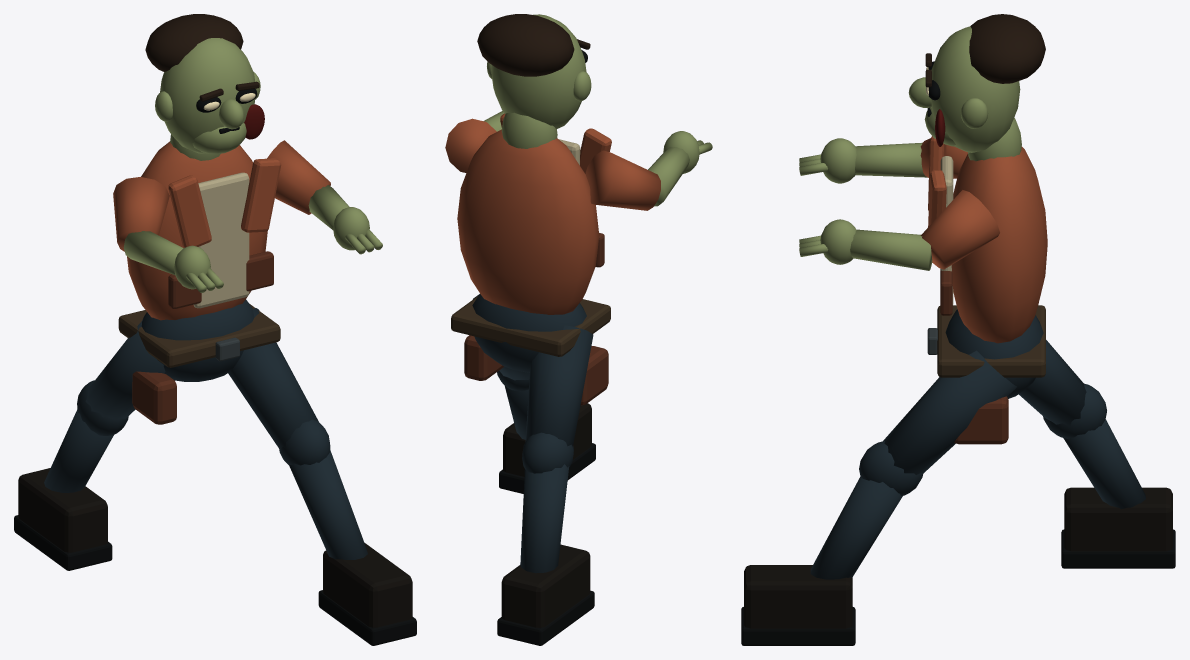
The model's file is runner.glb.
3 renders of one model, left to right at view 1: azimuth 30°, elevation 25°; view 2: azimuth 150°, elevation 25°; view 3: azimuth 270°, elevation 25°, orthographic. The views are drawn at different scales.
Parts seen in each view (by area): view 1: runner; view 2: runner; view 3: runner.
Part boxes in pixels (<box>): runner: <box>14,14,416,645</box>; runner: <box>445,14,712,645</box>; runner: <box>741,14,1175,645</box>.
Size of the model in its own units: 0.4478 by 1.11 by 0.76.
